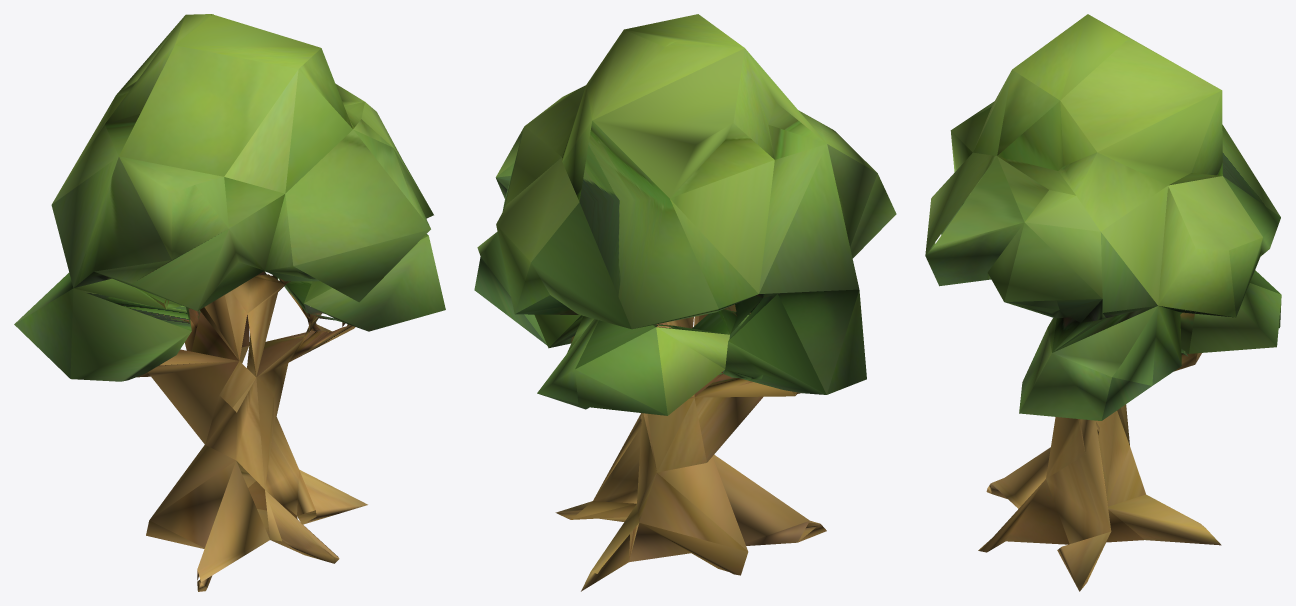
File: tree-forest-meshy-lod3.glb
3 views of the same model, side by side, from view 1: azimuth 30°, elevation 25°; view 2: azimuth 150°, elevation 25°; view 3: azimuth 270°, elevation 25° (orthographic). The views are drawn at different scales.
Parts seen in each view (by area): view 1: Mesh_0; view 2: Mesh_0; view 3: Mesh_0.
Boxes of the visible parts, <box> form: Mesh_0: <box>14,14,445,591</box>; Mesh_0: <box>474,14,896,591</box>; Mesh_0: <box>925,14,1281,591</box>.
Size of the model in its own units: 8.99 by 11.65 by 7.57.
1 material, 1 textured.
